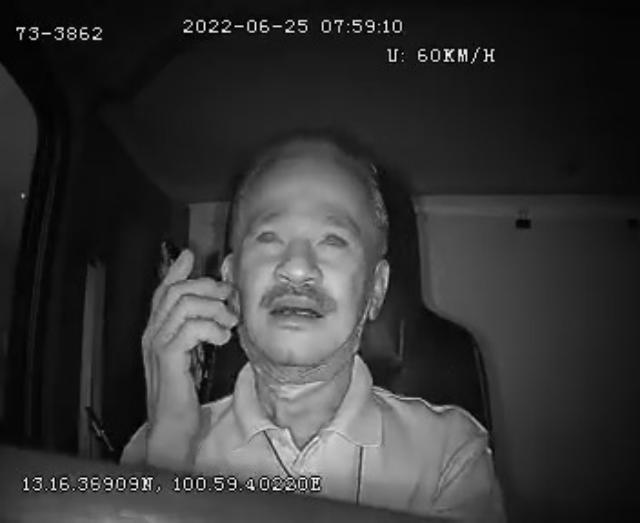PhoneUse: (152, 234, 215, 406)
SafeDriving: (246, 214, 290, 256), (312, 219, 356, 259)
